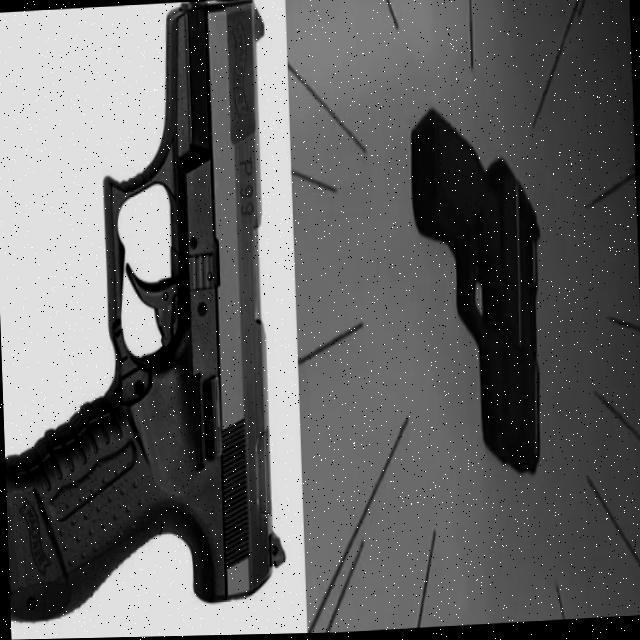pistol: (0, 0, 287, 625), (406, 102, 550, 483)
